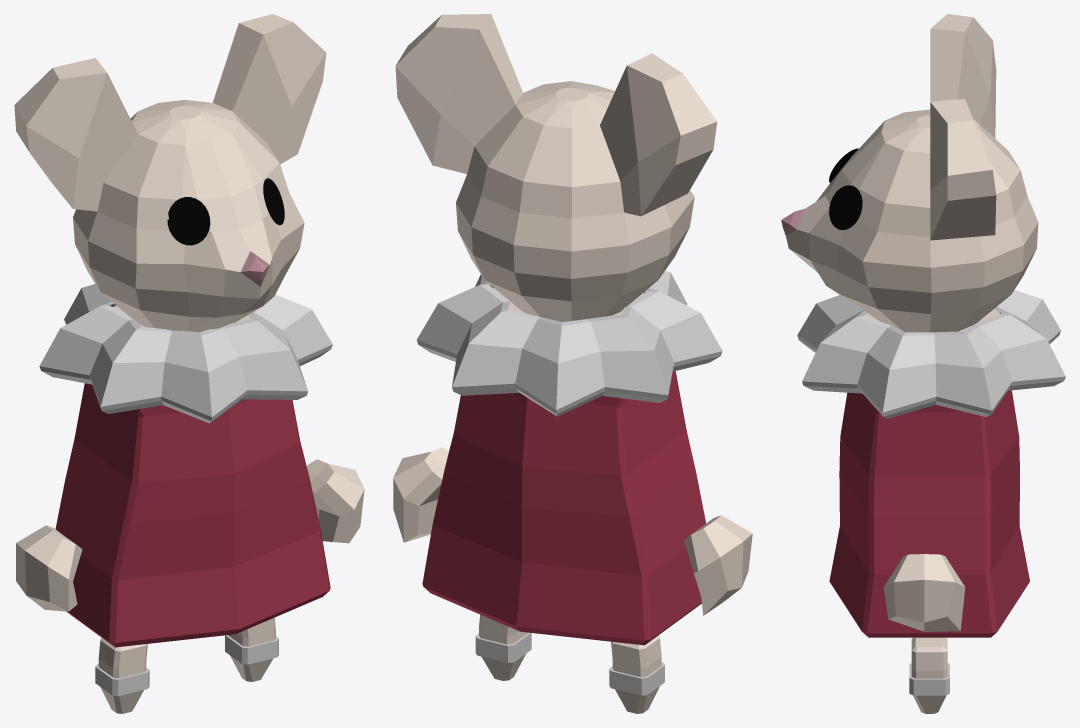
Rendered from mod_dormouse.fbx.
3 views of the same model, side by side, from view 1: azimuth 30°, elevation 25°; view 2: azimuth 150°, elevation 25°; view 3: azimuth 270°, elevation 25° (orthographic). The views are drawn at different scales.
Parts seen in each view (by area): view 1: mod_dormouse_body, mod_dormouse_hand_right, mod_dormouse_hand_left, mod_alice_eye_right, mod_alice_eye_left; view 2: mod_dormouse_body, mod_dormouse_hand_right, mod_dormouse_hand_left; view 3: mod_dormouse_body, mod_dormouse_hand_left, mod_alice_eye_left.
Boxes of the visible parts, box(x1,y1,x2,y2) form: mod_dormouse_body: box(14, 14, 332, 713); mod_dormouse_hand_right: box(16, 525, 82, 611); mod_dormouse_hand_left: box(306, 459, 364, 543); mod_alice_eye_right: box(167, 197, 210, 245); mod_alice_eye_left: box(263, 178, 284, 225); mod_dormouse_body: box(395, 14, 722, 713); mod_dormouse_hand_right: box(684, 515, 752, 615); mod_dormouse_hand_left: box(393, 447, 448, 542); mod_dormouse_body: box(781, 14, 1065, 713); mod_dormouse_hand_left: box(883, 554, 965, 631); mod_alice_eye_left: box(829, 185, 862, 229).
Size of the model in its own units: 32.57 by 60.23 by 25.32.
